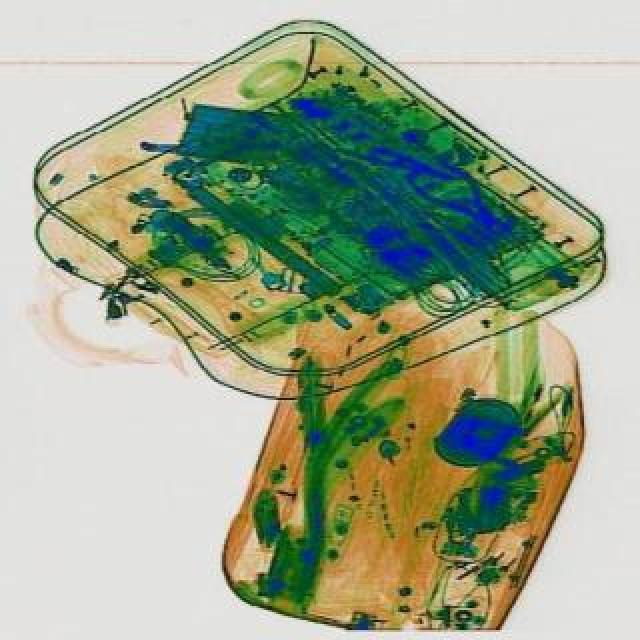wrench: (396, 142, 518, 250)
